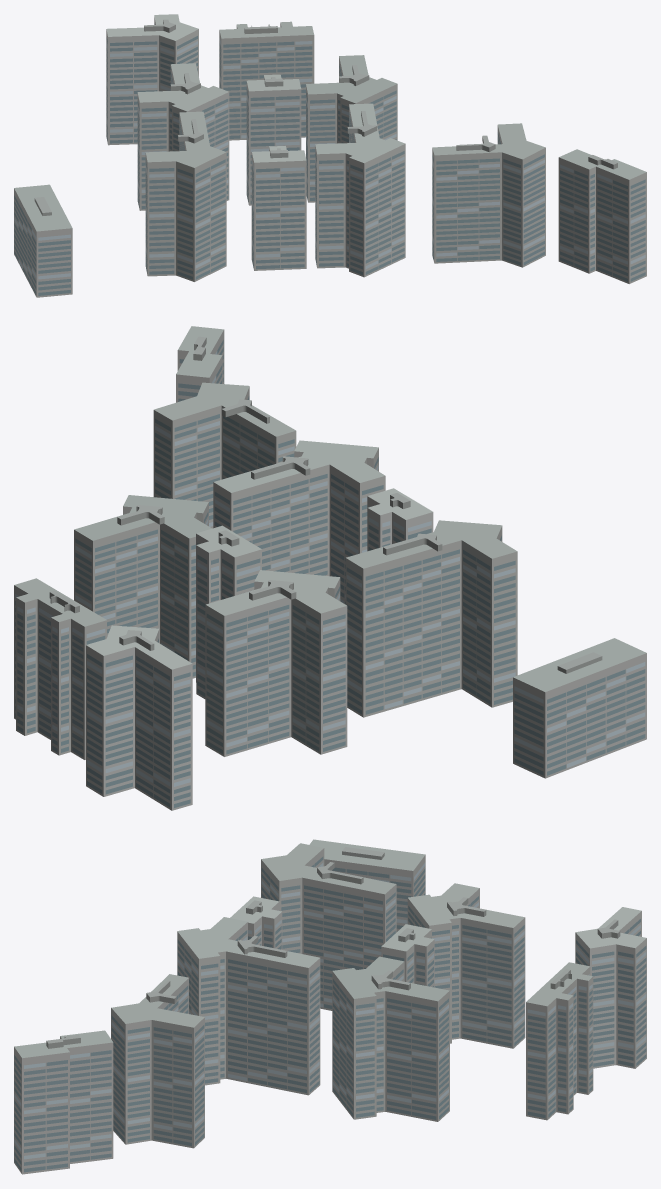
The model's file is apt-a13380302.glb.
The picture shows the model from 3 angles, top to bottom: view 1: azimuth 30°, elevation 25°; view 2: azimuth 150°, elevation 25°; view 3: azimuth 270°, elevation 25°; orthographic projection. The views are drawn at different scales.
Parts seen in each view (by area): view 1: apt-a13380302; view 2: apt-a13380302; view 3: apt-a13380302.
Boxes of the visible parts, bbox=[...] form: apt-a13380302: bbox=[14, 14, 646, 297]; apt-a13380302: bbox=[14, 326, 646, 810]; apt-a13380302: bbox=[14, 839, 646, 1174].
Bounding box in the file's own units: 253 × 60 × 259.
